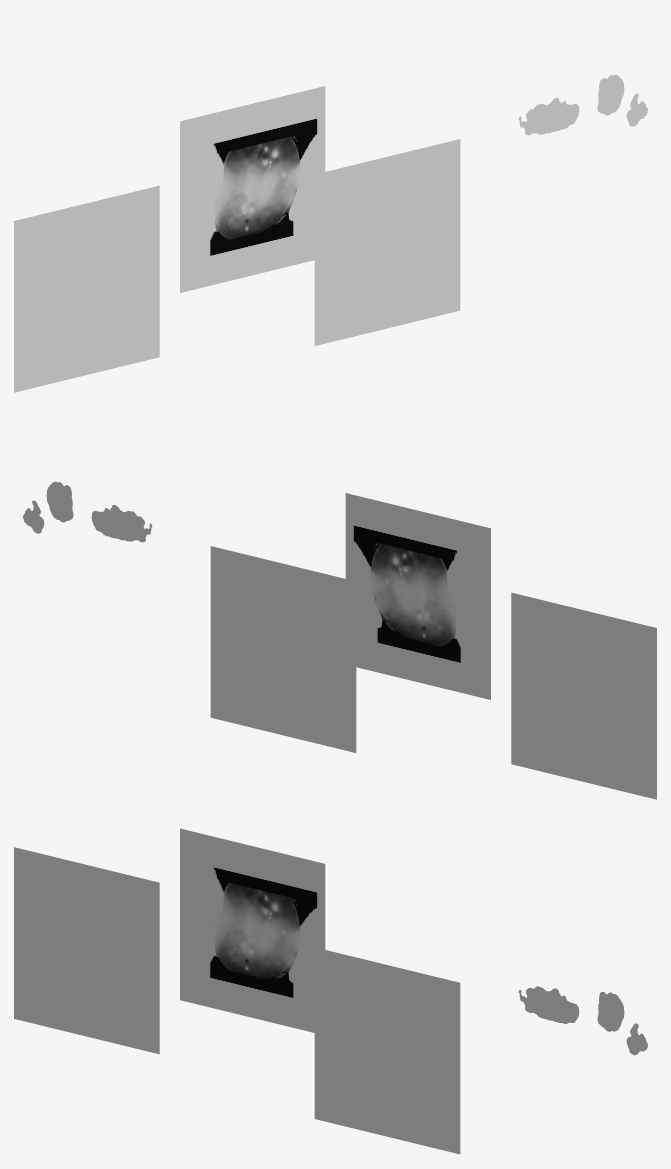
The model's file is nori.FBX.
3 renders of one model, top to bottom at view 1: azimuth 30°, elevation 25°; view 2: azimuth 150°, elevation 25°; view 3: azimuth 330°, elevation 25°, orthographic.
Visible parts, largest first — view 1: Object002, Object003, Object004, Object005; view 2: Object002, Object003, Object004, Object005; view 3: Object004, Object002, Object003, Object005.
Part boxes in pixels (bbox=[...]): Object002: bbox=[14, 185, 159, 392]; Object003: bbox=[180, 86, 325, 292]; Object004: bbox=[314, 139, 460, 345]; Object005: bbox=[518, 74, 647, 135]; Object002: bbox=[511, 592, 656, 799]; Object003: bbox=[345, 493, 490, 699]; Object004: bbox=[210, 546, 356, 752]; Object005: bbox=[23, 481, 152, 542]; Object004: bbox=[314, 947, 460, 1154]; Object002: bbox=[14, 847, 159, 1054]; Object003: bbox=[180, 828, 325, 1032]; Object005: bbox=[518, 986, 647, 1055].
Bounding box in the file's own units: 1 × 0.3846 × 0.
Materials: 4 (4 with a texture image).
